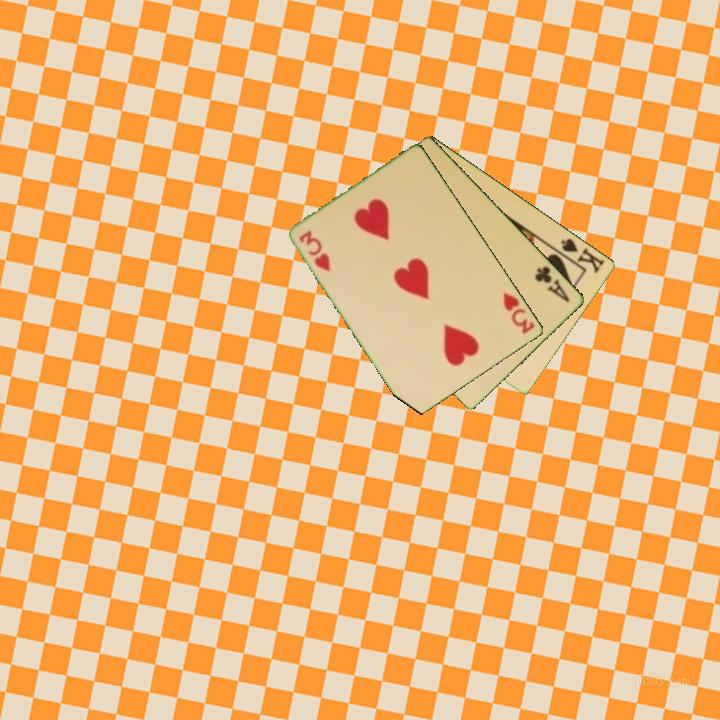3h: (500, 289, 538, 337), (296, 227, 334, 275)
Ac: (532, 263, 573, 305)
Ks: (558, 234, 608, 276)
